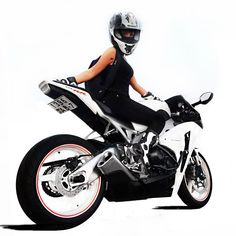helmet: (111, 9, 141, 55)
